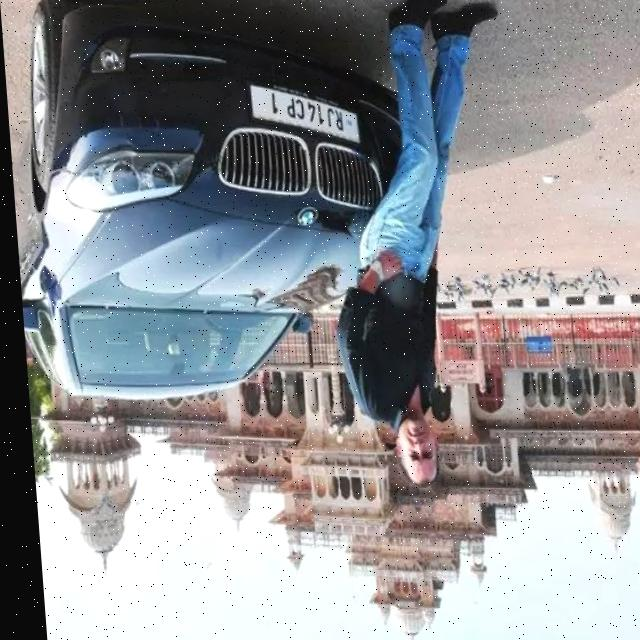plate: (240, 72, 365, 146)
